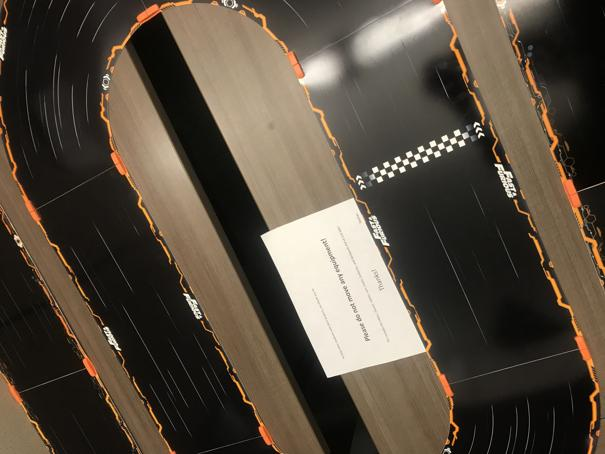Finish Line: (356, 121, 493, 191)
